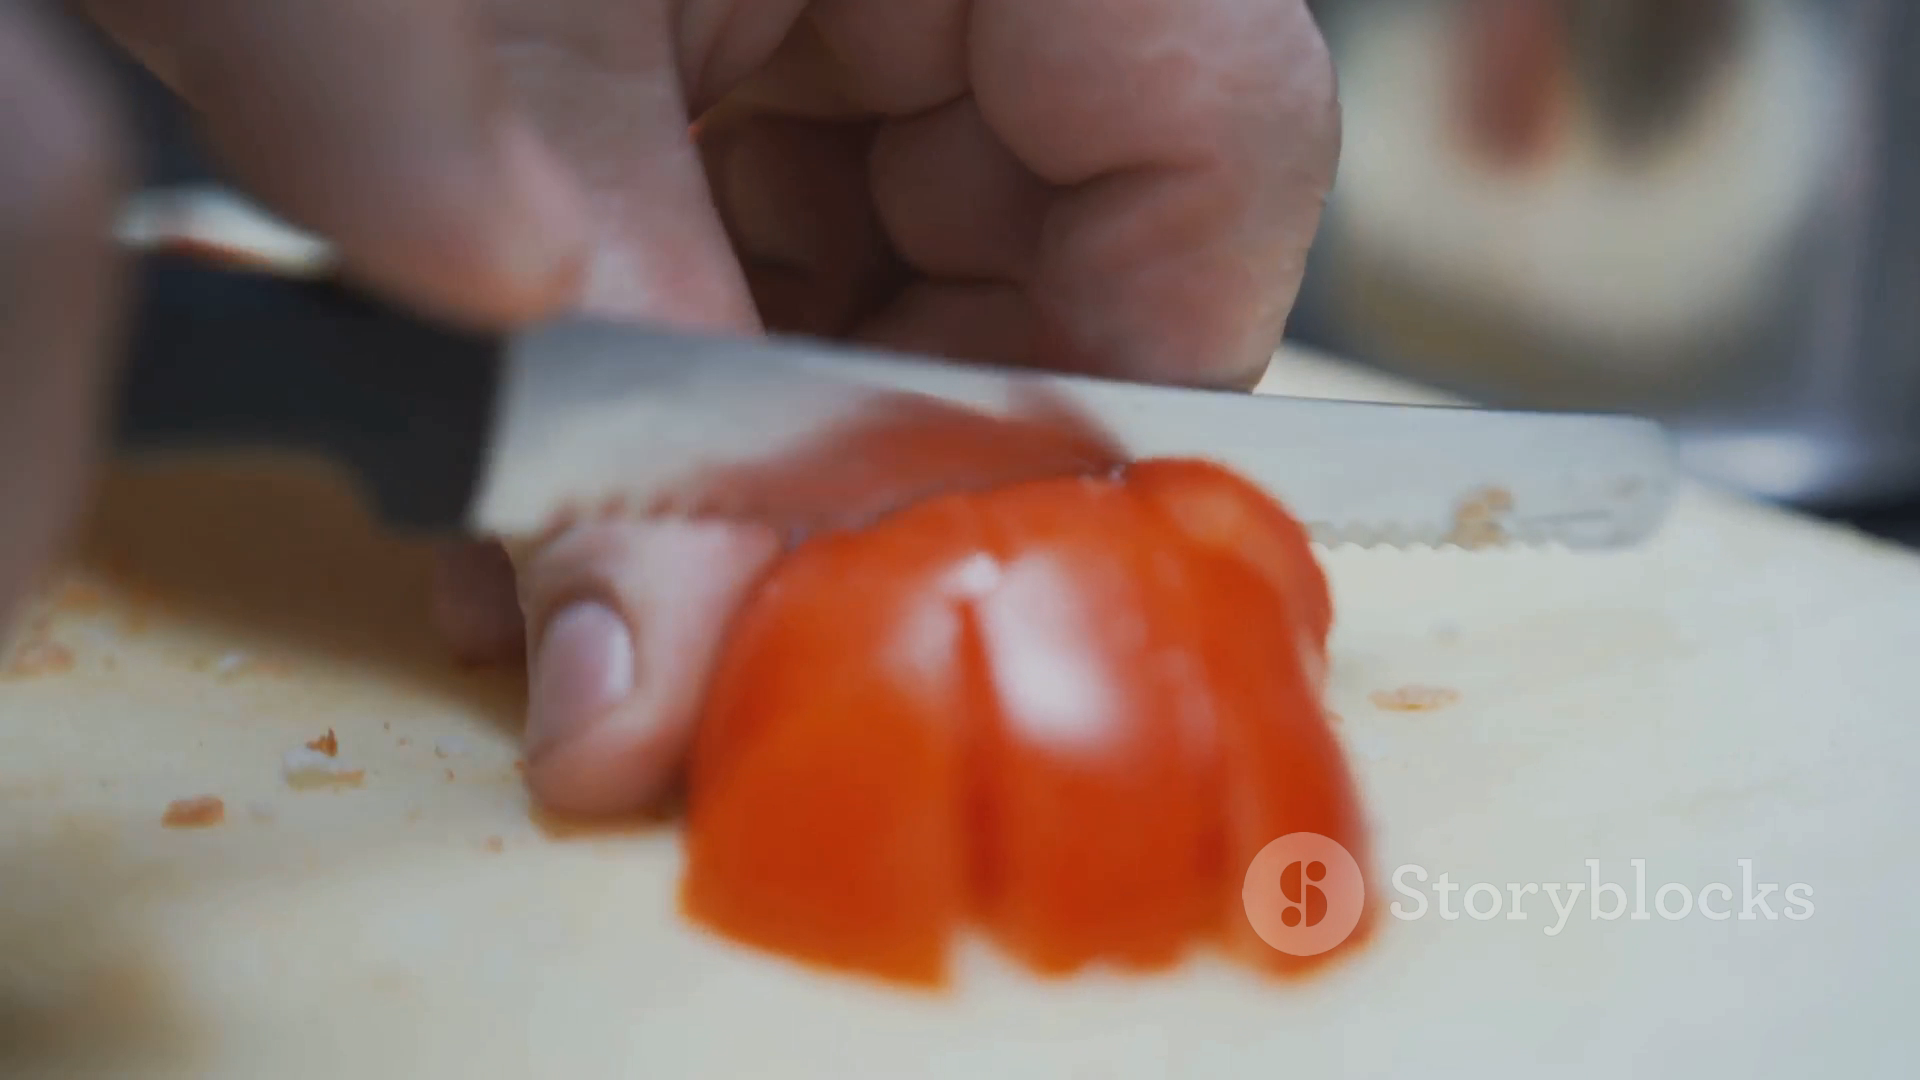cortante: (469, 315, 1683, 563)
